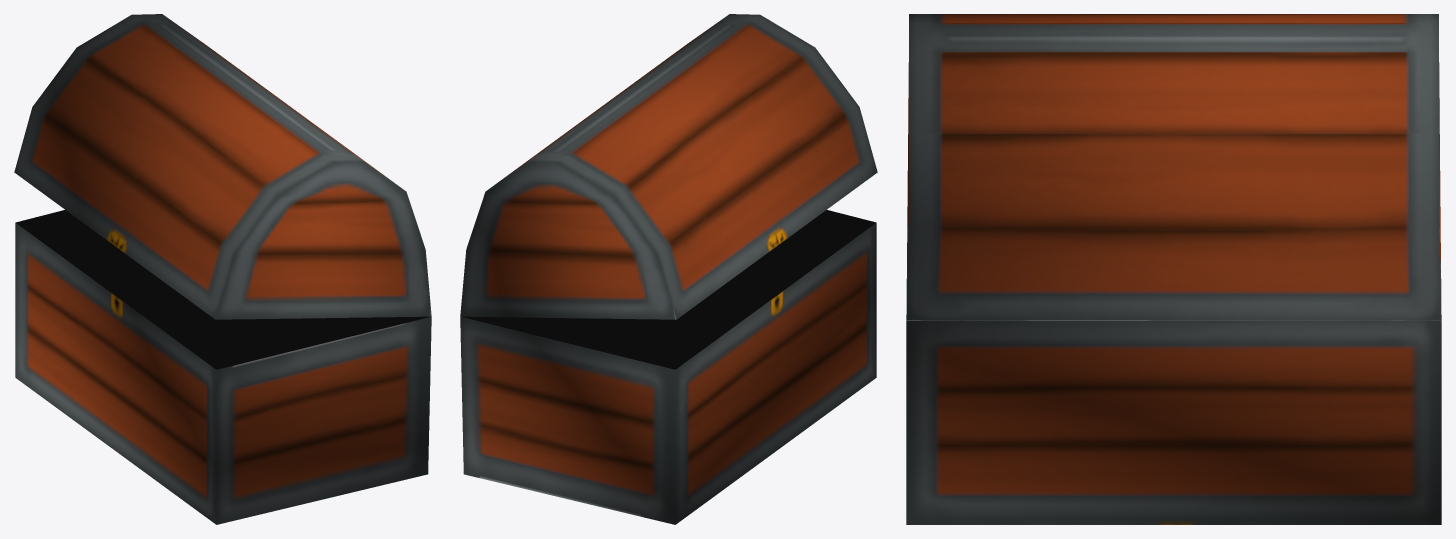
File: cofrenormal_000003.obj
3 renders of one model, left to right at view 1: azimuth 30°, elevation 25°; view 2: azimuth 150°, elevation 25°; view 3: azimuth 270°, elevation 25°, orthographic. The views are drawn at different scales.
Visible parts, largest first — view 1: cofre; view 2: cofre; view 3: cofre.
Part boxes in pixels (x1=…): cofre: x1=14, y1=14, x2=431, y2=524; cofre: x1=460, y1=14, x2=877, y2=524; cofre: x1=906, y1=14, x2=1441, y2=524.
Bounding box in the file's own units: 3.87 × 5.75 × 6.34.
